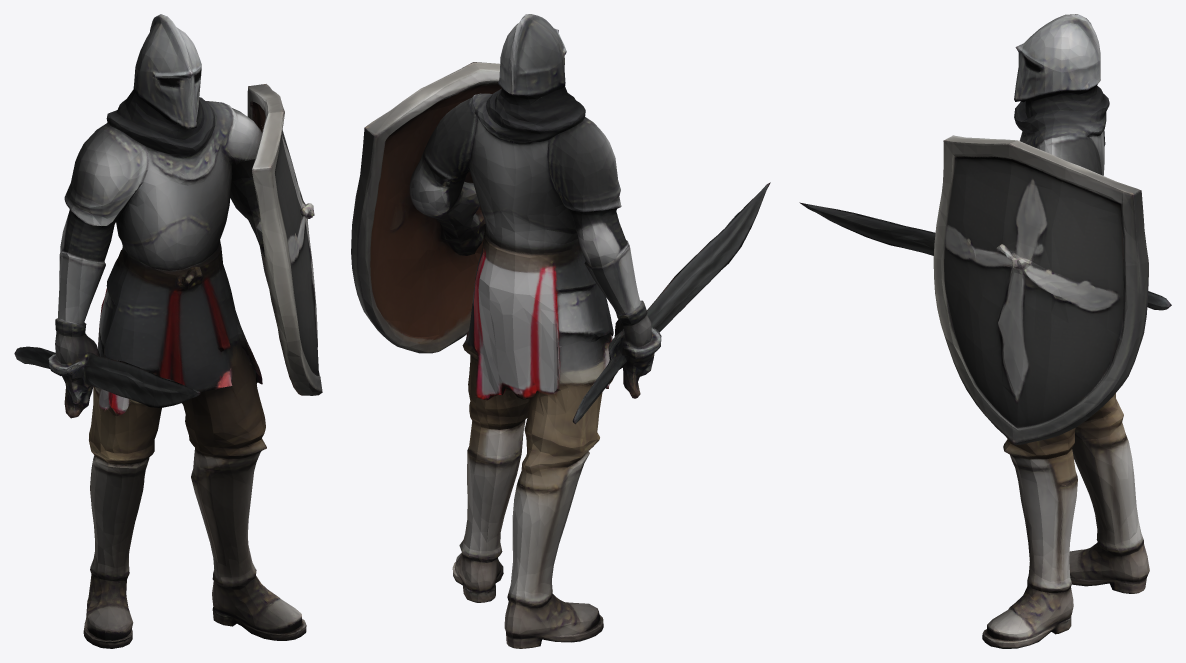
The model's file is SoliderEnemy.glb.
3 renders of one model, left to right at view 1: azimuth 30°, elevation 25°; view 2: azimuth 150°, elevation 25°; view 3: azimuth 270°, elevation 25°, orthographic. The views are drawn at different scales.
Size of the model in its own units: 45.95 by 100 by 57.67.
1 material, 1 textured.
